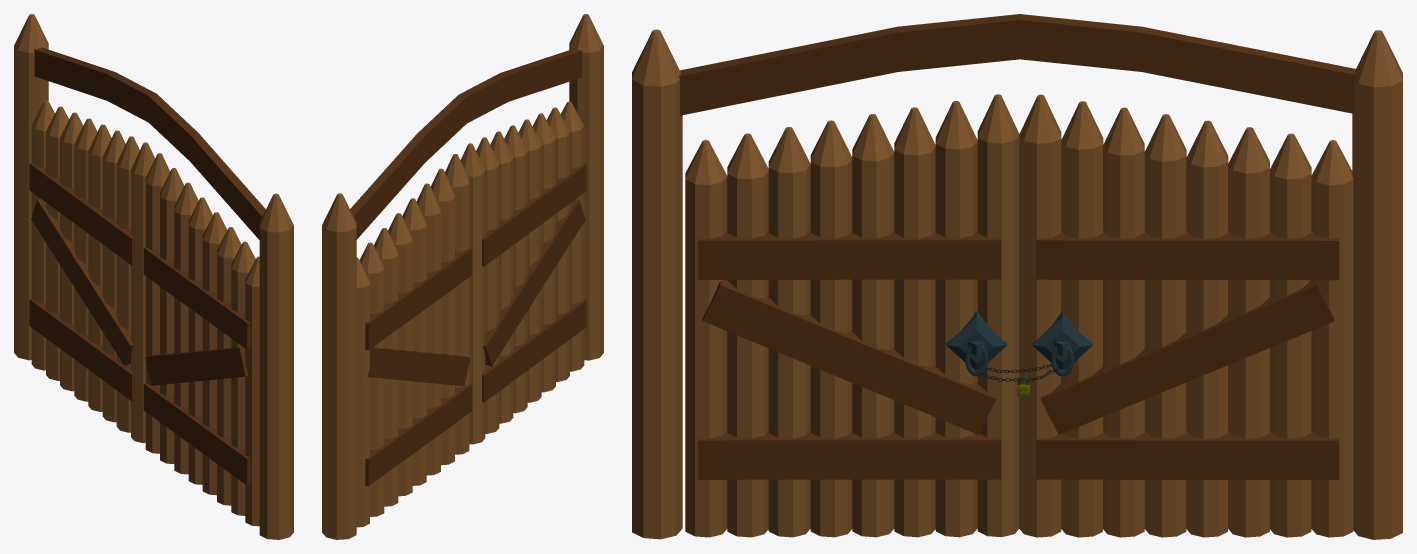
The model's file is GateWOLock.fbx.
3 renders of one model, left to right at view 1: azimuth 30°, elevation 25°; view 2: azimuth 150°, elevation 25°; view 3: azimuth 270°, elevation 25°, orthographic. The views are drawn at different scales.
Parts seen in each view (by area): view 1: Cylinder.008, Cylinder.017, Cylinder.018, Cube.005, Cube.002, Cube; view 2: Cylinder.017, Cylinder.008, Cylinder.018, Cube.002, Cube.005, Cube; view 3: Cylinder.008, Cylinder.017, Cylinder.018, Cube.002, Cube.005, Cube, Torus, Torus.001.
Part boxes in pixels (x1=…): Cylinder.008: x1=145, y1=153, x2=259, y2=526; Cylinder.017: x1=31, y1=100, x2=154, y2=443; Cylinder.018: x1=14, y1=14, x2=293, y2=539; Cube.005: x1=29, y1=163, x2=134, y2=401; Cube.002: x1=143, y1=247, x2=250, y2=485; Cube: x1=34, y1=47, x2=265, y2=239; Cylinder.017: x1=356, y1=154, x2=469, y2=527; Cylinder.008: x1=460, y1=101, x2=584, y2=444; Cylinder.018: x1=322, y1=14, x2=603, y2=539; Cube.002: x1=482, y1=163, x2=586, y2=402; Cube.005: x1=365, y1=247, x2=472, y2=486; Cube: x1=350, y1=48, x2=582, y2=239; Cylinder.008: x1=685, y1=94, x2=1019, y2=537; Cylinder.017: x1=1019, y1=94, x2=1353, y2=537; Cylinder.018: x1=632, y1=29, x2=1402, y2=539; Cube.002: x1=697, y1=230, x2=1001, y2=479; Cube.005: x1=1036, y1=230, x2=1339, y2=479; Cube: x1=679, y1=14, x2=1355, y2=115; Torus: x1=946, y1=311, x2=1007, y2=376; Torus.001: x1=1032, y1=311, x2=1093, y2=376.
Size of the model in its own units: 299 by 2600 by 3551.
